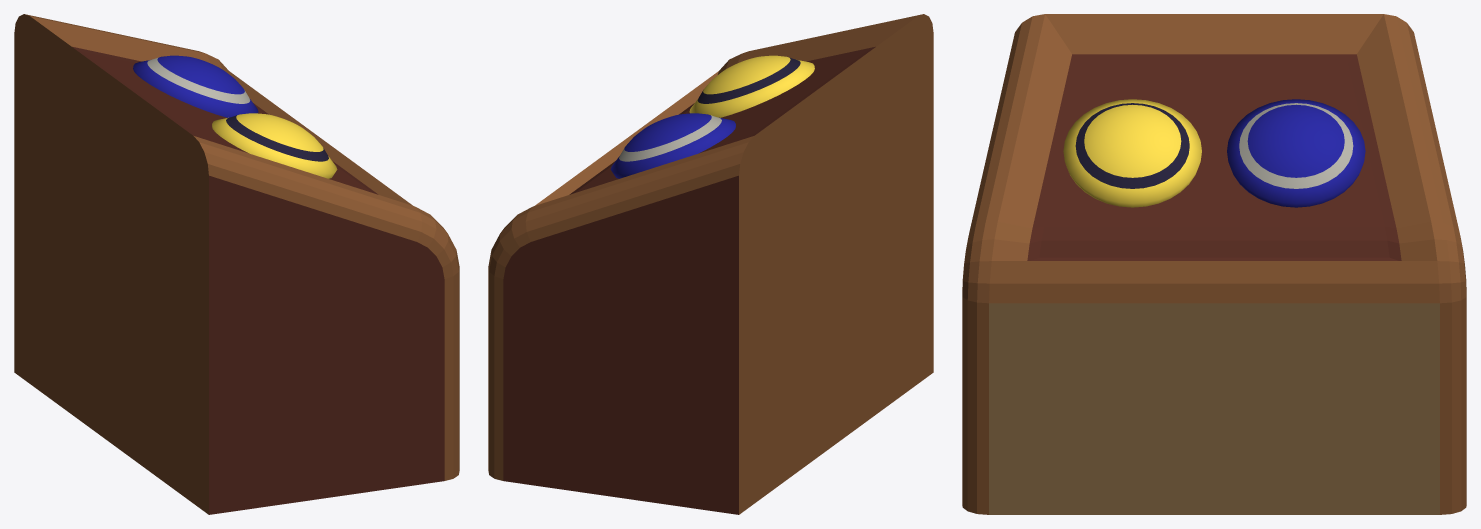
The model's file is Bass_Drum_Panel-1.fbx.
The picture shows the model from 3 angles, left to right: view 1: azimuth 30°, elevation 25°; view 2: azimuth 150°, elevation 25°; view 3: azimuth 270°, elevation 25°; orthographic projection. The views are drawn at different scales.
Parts seen in each view (by area): view 1: Cube, Sphere.001, Sphere.002; view 2: Cube, Sphere.002, Sphere.001; view 3: Cube, Sphere.002, Sphere.001.
Boxes of the visible parts, bbox=[...] form: Cube: bbox=[14, 14, 459, 514]; Sphere.001: bbox=[133, 55, 258, 117]; Sphere.002: bbox=[212, 113, 337, 178]; Cube: bbox=[488, 14, 933, 514]; Sphere.002: bbox=[689, 55, 814, 117]; Sphere.001: bbox=[610, 113, 735, 178]; Cube: bbox=[962, 14, 1466, 514]; Sphere.002: bbox=[1063, 99, 1201, 207]; Sphere.001: bbox=[1227, 99, 1365, 207].
Size of the model in its own units: 344 by 615 by 513.
